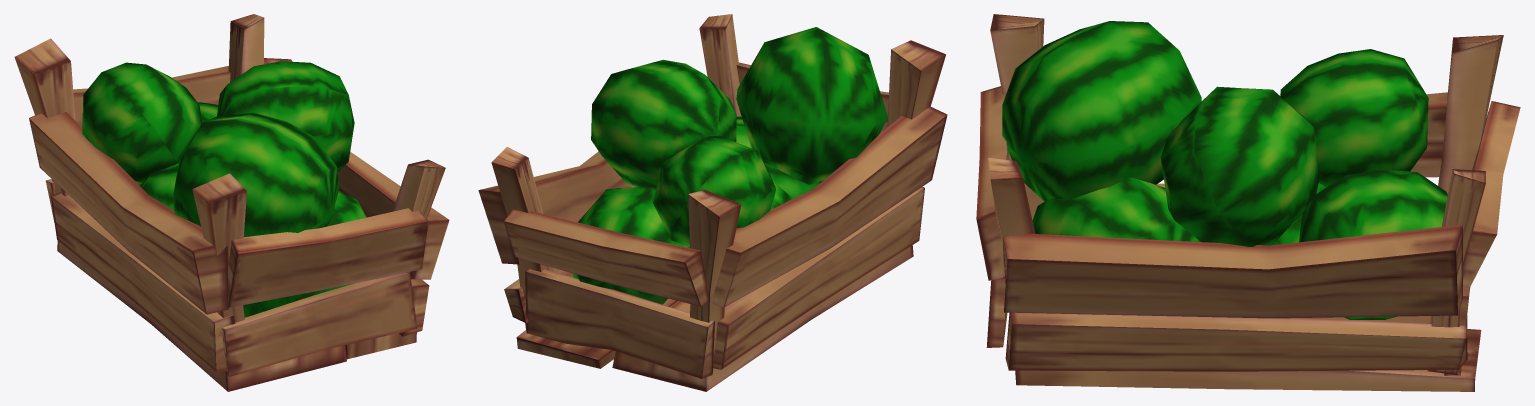
The model's file is SM_PROP_crate_02.glb.
3 renders of one model, left to right at view 1: azimuth 30°, elevation 25°; view 2: azimuth 150°, elevation 25°; view 3: azimuth 270°, elevation 25°, orthographic. The views are drawn at different scales.
Visible parts, largest first — view 1: SM_PROP_crate_02; view 2: SM_PROP_crate_02; view 3: SM_PROP_crate_02.
Boxes of the visible parts, <box> form: SM_PROP_crate_02: <box>14,14,449,391</box>; SM_PROP_crate_02: <box>478,14,947,391</box>; SM_PROP_crate_02: <box>976,14,1520,391</box>.
Bounding box in the file's own units: 0.645 × 0.5102 × 0.8913.
Materials: 2 (2 with a texture image).
